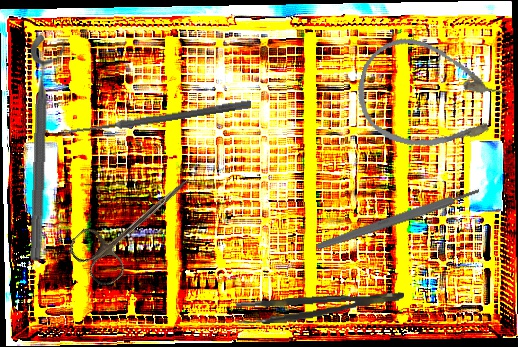Cannula: (347, 28, 515, 167)
Fixation Ring: (24, 33, 67, 262)
Iris Scissors: (64, 154, 207, 292)
Scalpel Handle: (315, 186, 481, 252)
Surgical Spoon: (60, 99, 252, 138)
Tissue Forceps: (234, 290, 406, 326)
